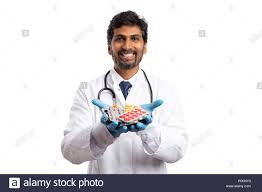Indian_Male: (107, 16, 150, 69)
